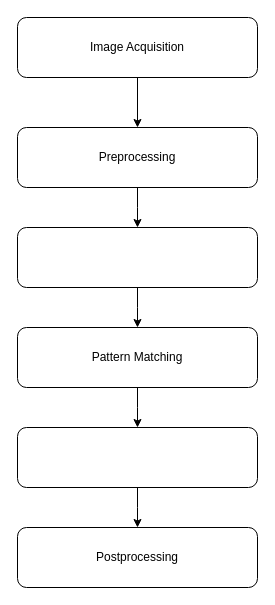
This 275x605 diagram has some shape labels left out. The centre of each missing label's shape, as x and y in pixels:
Feature extraction: point 137,457
Text recognition: point 137,257
